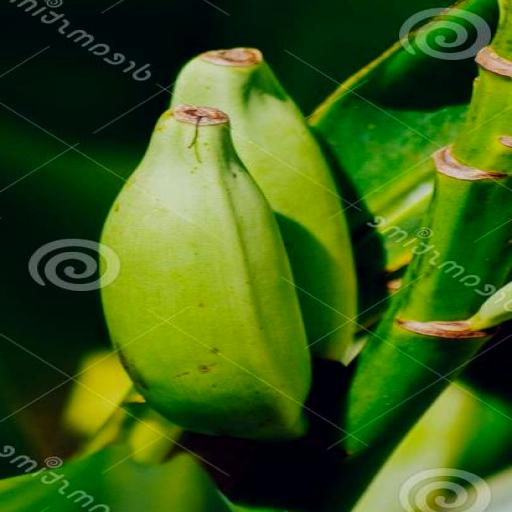banana-unripe: (97, 44, 403, 451)
